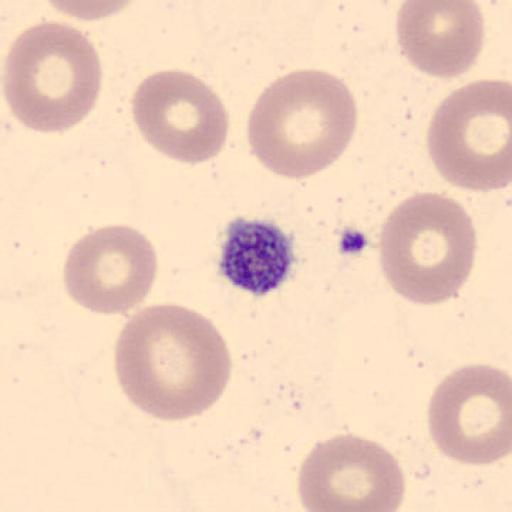Platelet: (216, 214, 300, 298)
RBC: (112, 302, 234, 423), (244, 66, 360, 180), (1, 18, 103, 136), (376, 190, 477, 306), (425, 78, 512, 193), (130, 68, 230, 166), (62, 222, 158, 318), (425, 362, 512, 467), (296, 431, 407, 512), (394, 0, 485, 80), (42, 0, 143, 21)
